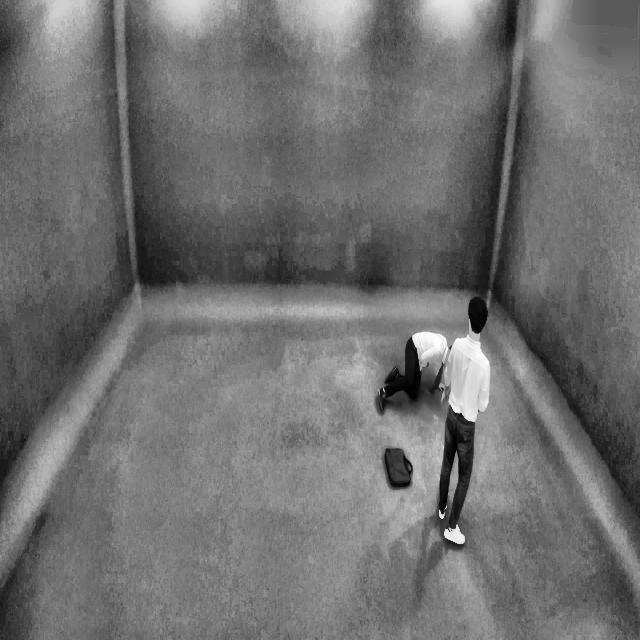assult: (378, 276, 491, 550)
